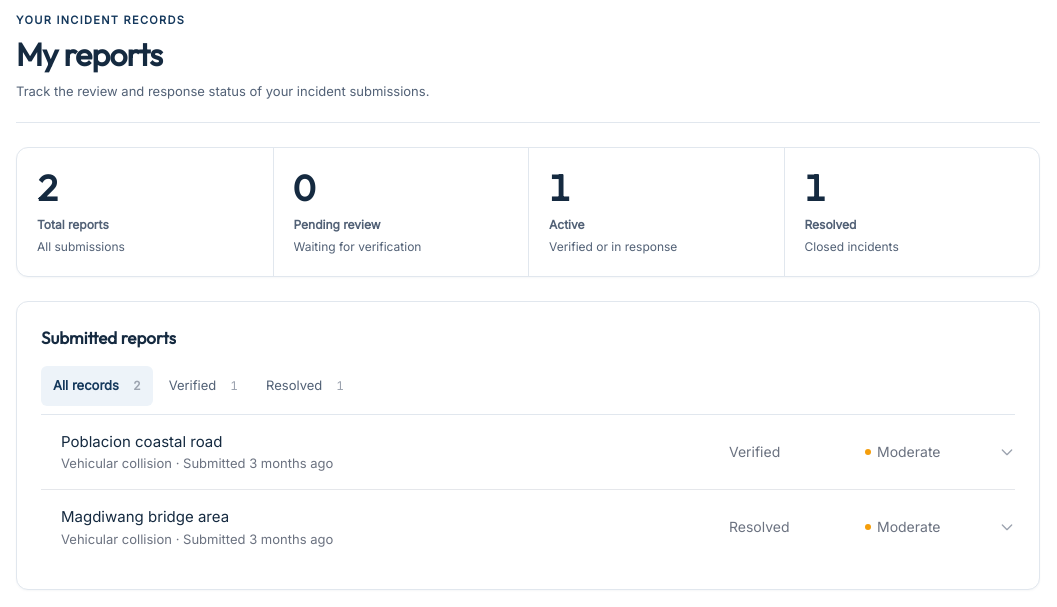
it: reporter situation update flow › renders stat strip metrics and allows filtering by status
Check: the heading "Poblacion coastal road" is shown, box [61, 432, 222, 451]
Check: the heading "Magdiwang bridge area" is shown, box [61, 507, 229, 526]
Click the button "1 Resolved Closed incidents": point(911, 212) [784, 148, 1039, 276]
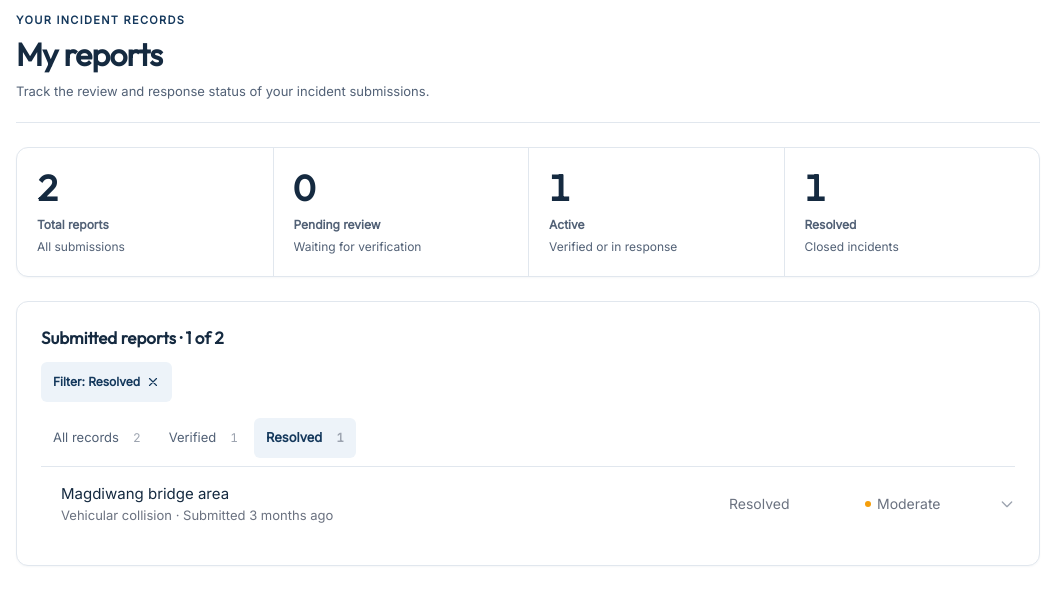
Check: the heading "Magdiwang bridge area" is shown, box [61, 484, 229, 503]
Check: the button "Poblacion coastal road" is gone
Filter back to all
Click the button "All records 2": point(97, 438) [41, 418, 153, 458]
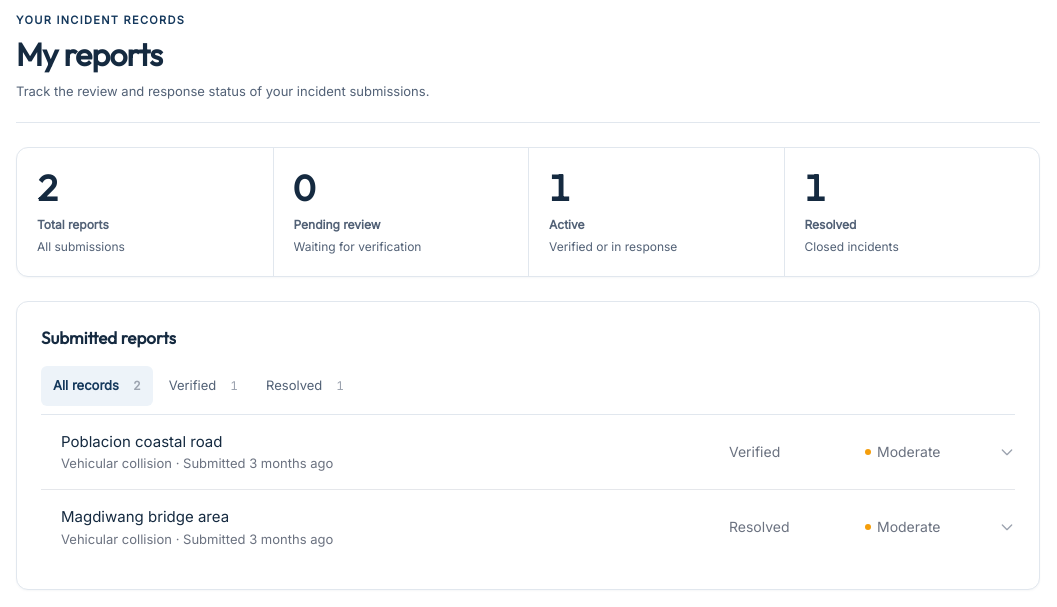
Check: the heading "Magdiwang bridge area" is shown, box [61, 507, 229, 526]
Check: the heading "Poblacion coastal road" is shown, box [61, 432, 222, 451]
